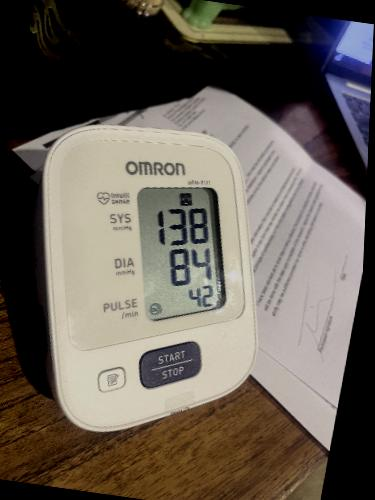bpm: (135, 182, 225, 323)
